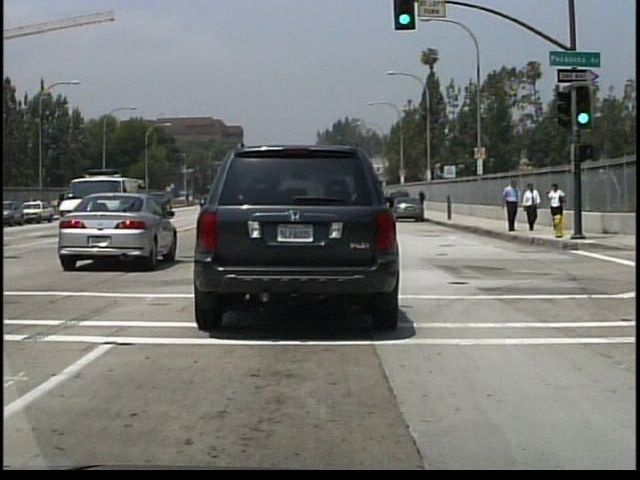person: (501, 177, 521, 235), (525, 182, 545, 233), (548, 181, 568, 216), (417, 187, 428, 213)
